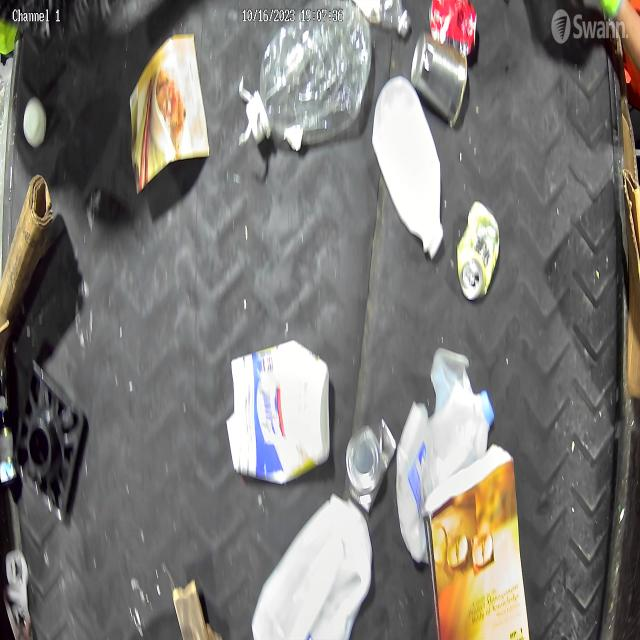can: (411, 29, 468, 130), (343, 416, 397, 510), (456, 197, 502, 302), (428, 0, 479, 58)
milk_jug: (395, 378, 495, 566), (250, 493, 373, 640), (372, 74, 444, 262)
plastic_bottle: (237, 0, 372, 156), (352, 0, 412, 40)
